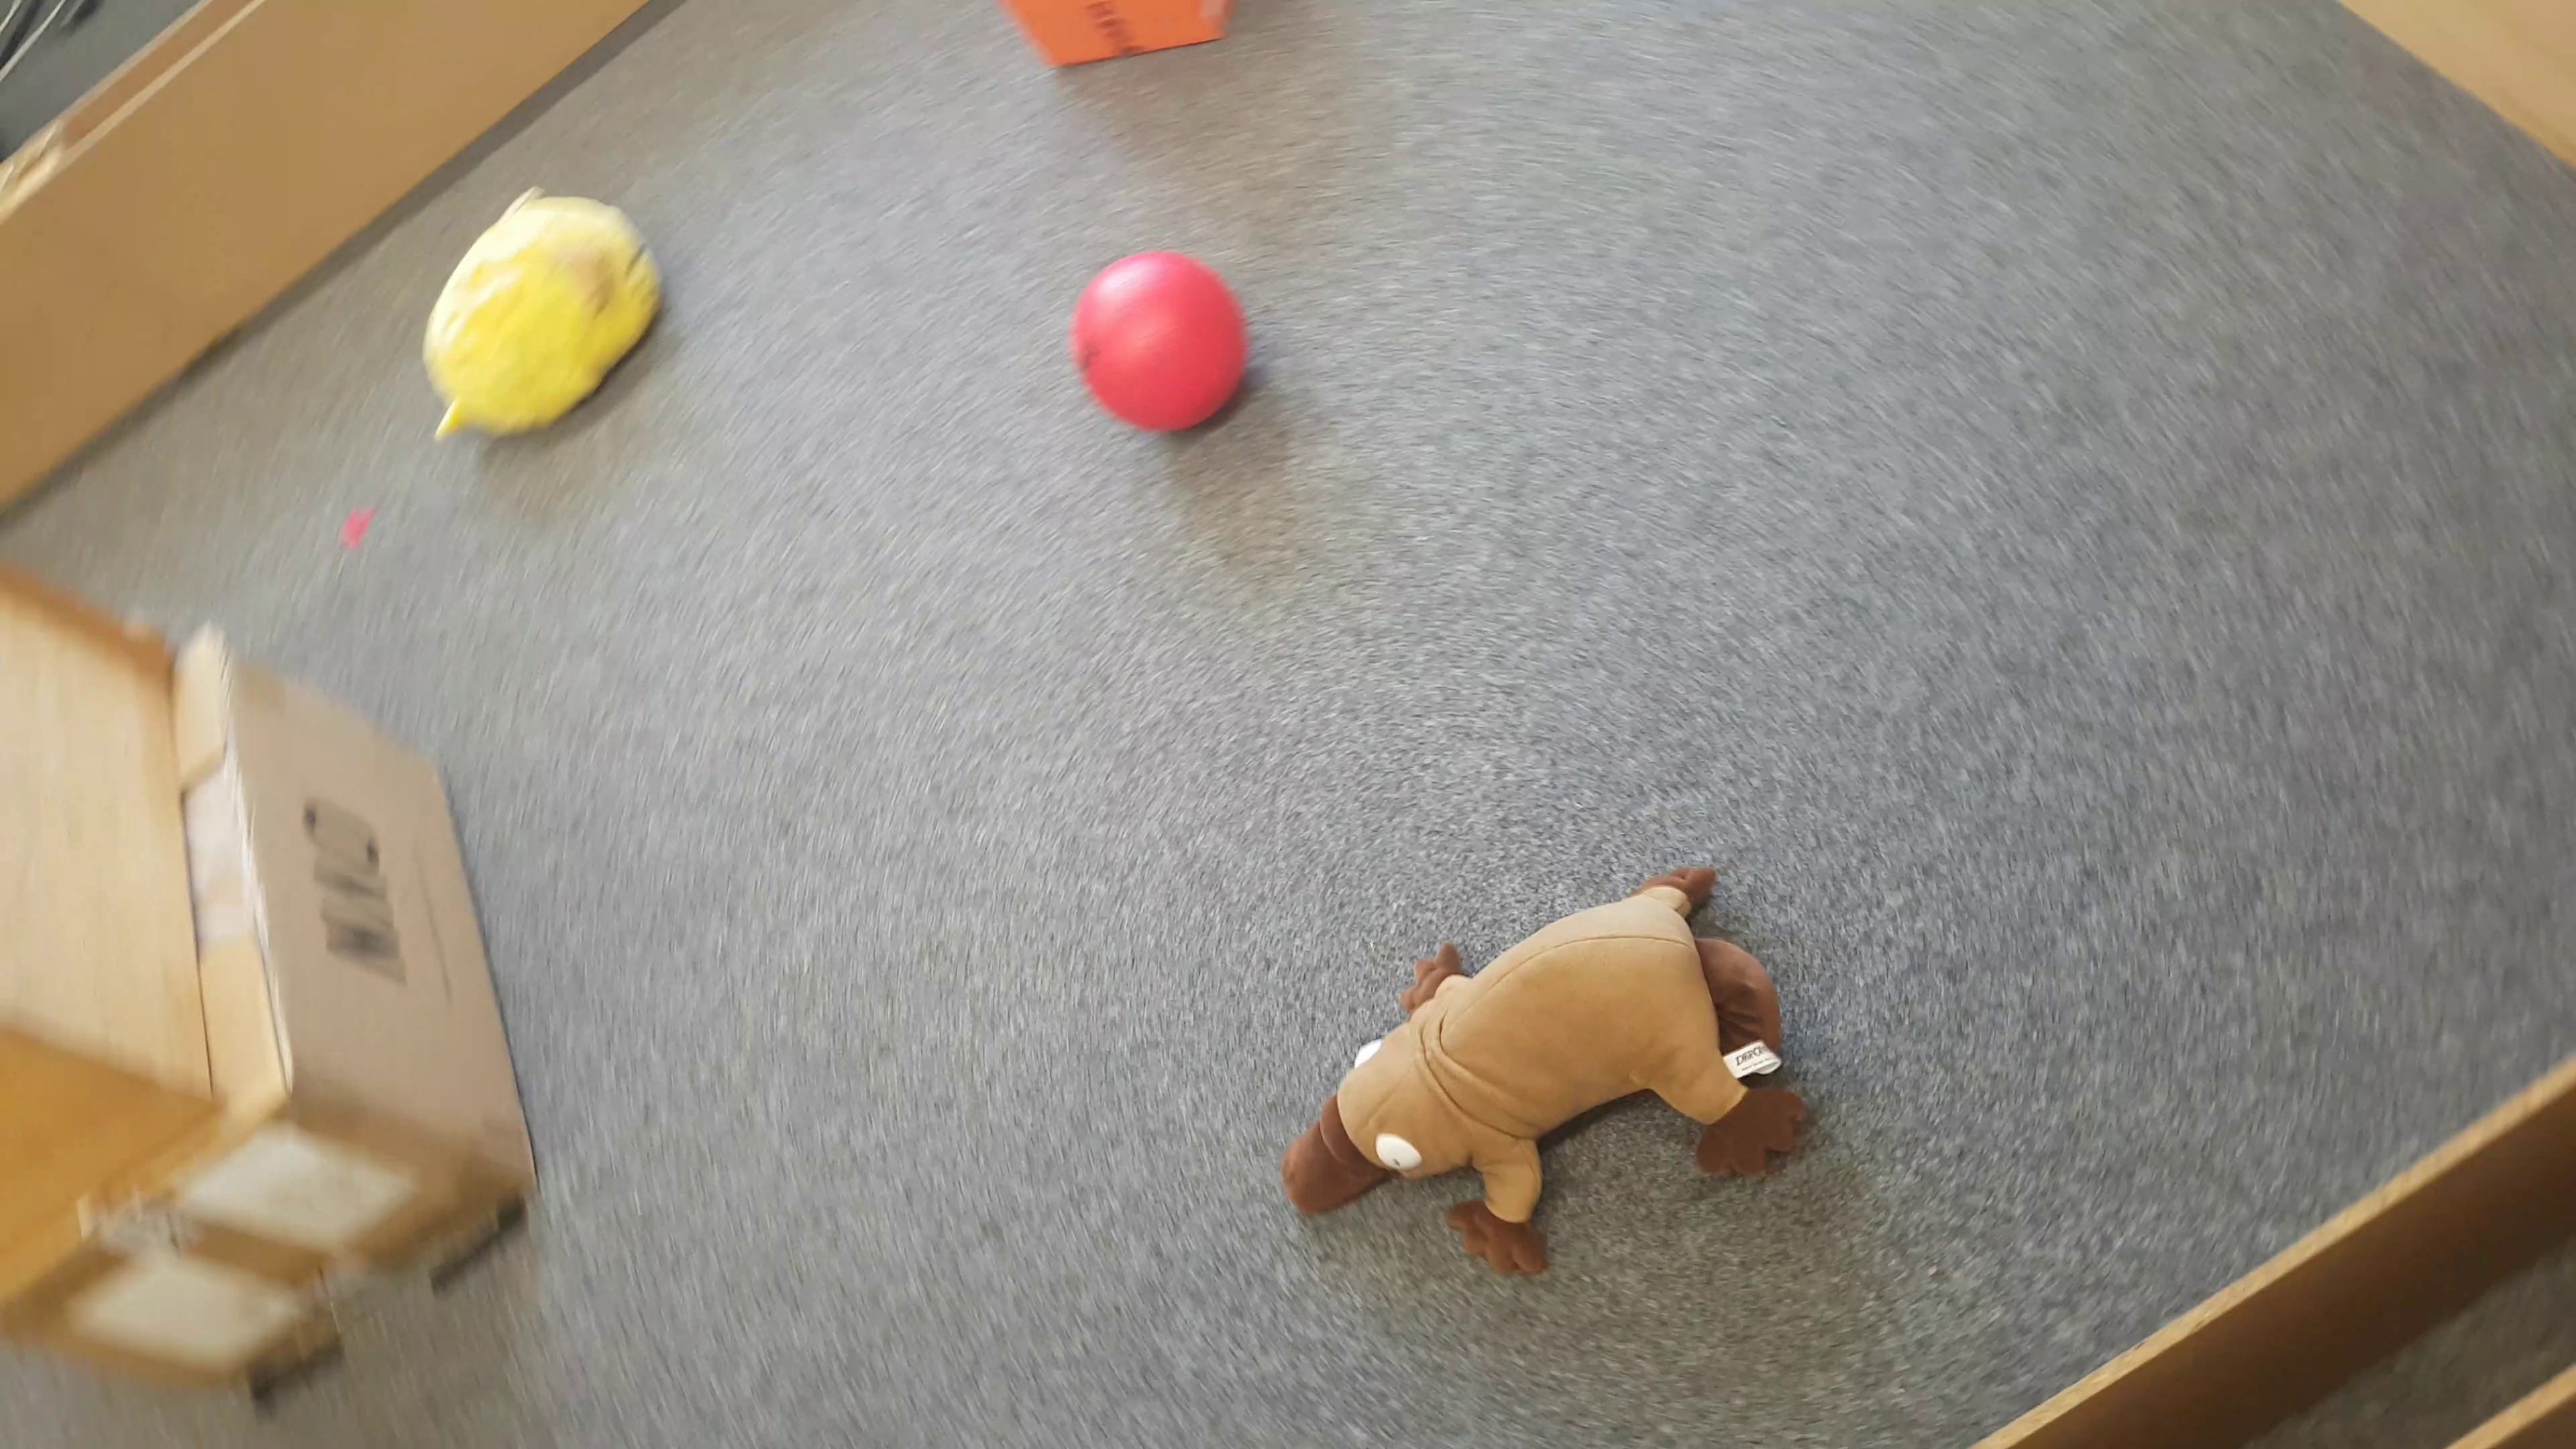grasp: (1276, 867, 1810, 1270), (425, 188, 662, 448)
kick: (1074, 255, 1253, 433)
push: (1016, 0, 1230, 69)
